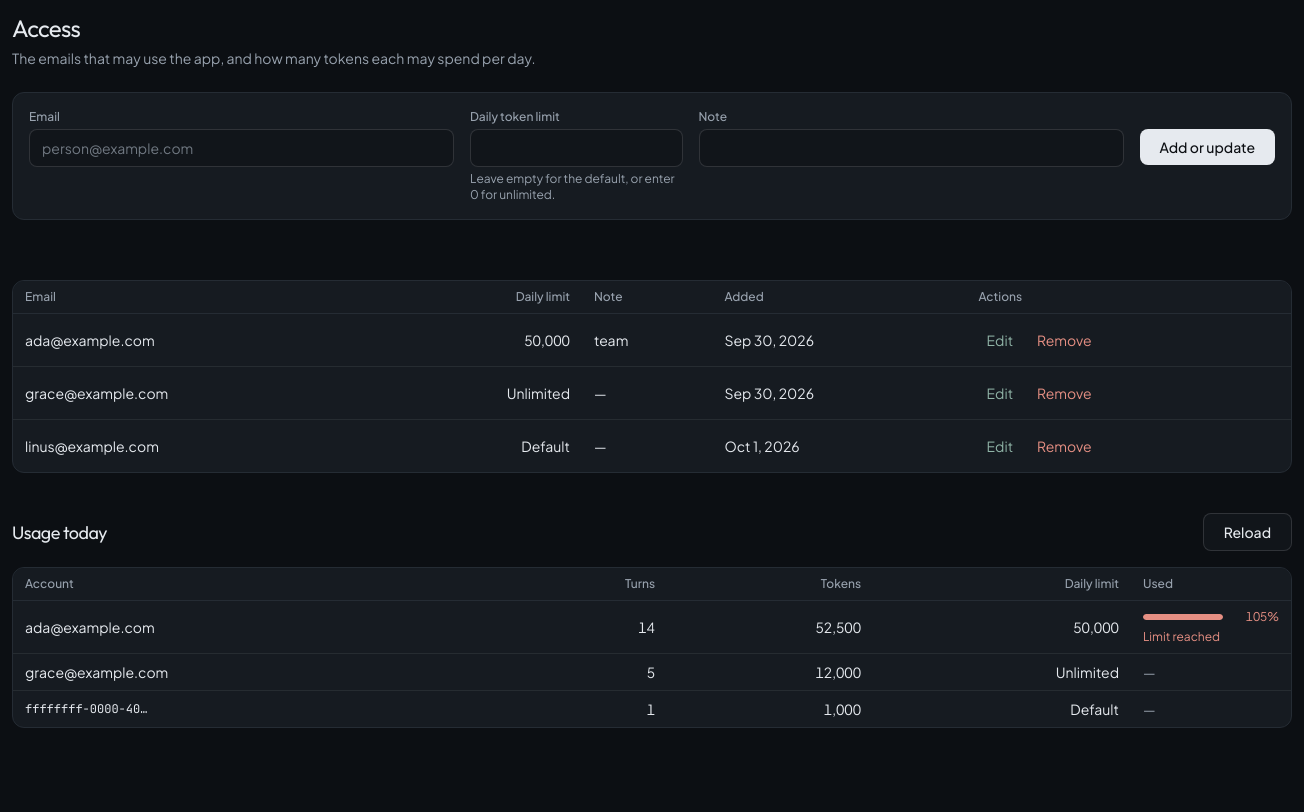
Test case: AccessClientPage — usage today › reloads the counters on demand, keeping the rows meanwhile
Click the button "Reload" at (1247, 532), box [1203,513,1292,551]
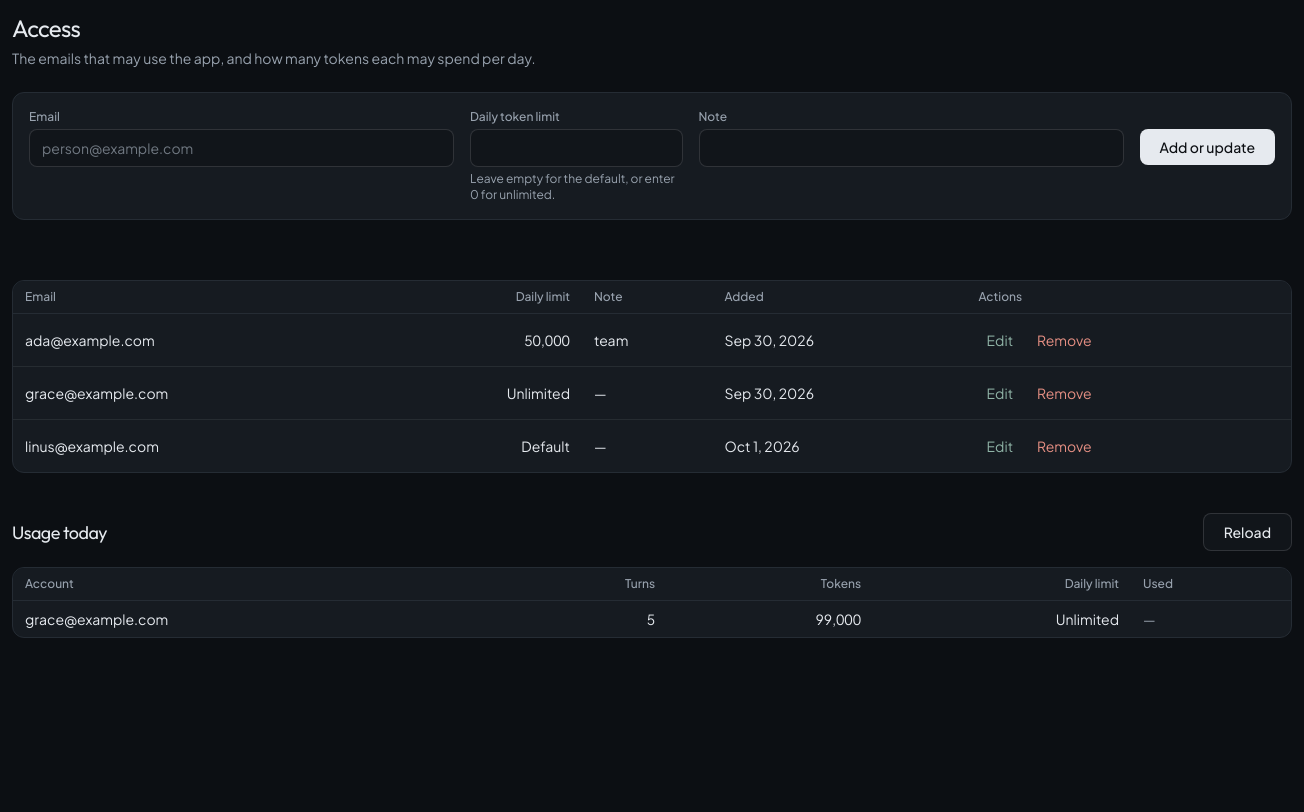
Expected: the row "grace@example.com 5 99,000 Unlimited —" is shown, [13,601,1291,637]
